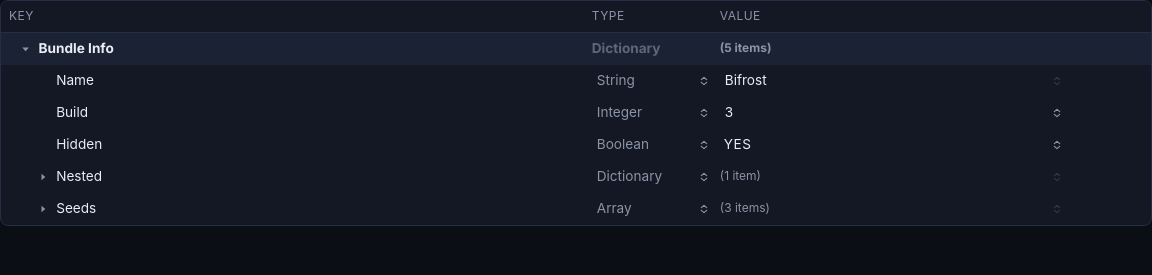
Test case: PlistTable › expands and collapses a nested dict
Expected: the text "Inner" is not shown
Click the button named "Expand" in the row of "(1 item)": (43, 176) [35,168,52,185]
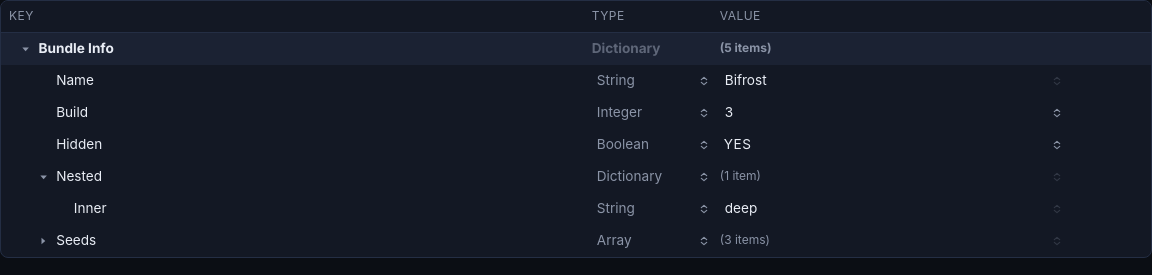
Expected: the text "Inner" is shown, [74,198,107,219]
Click the button named "Collapse" in the row of "(1 item)": (43, 176) [35,168,52,185]
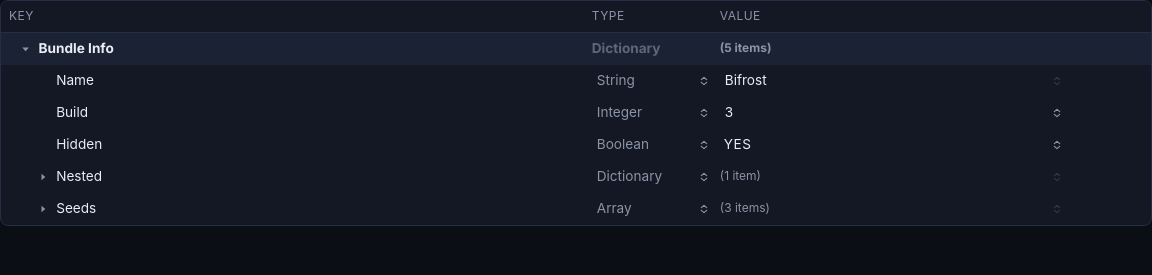
Expected: the text "Inner" is gone
